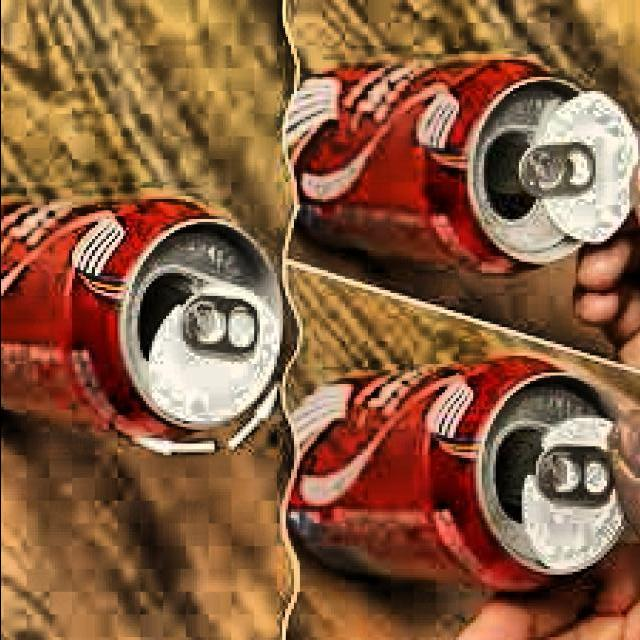Aluminum Can: (270, 352, 635, 596), (282, 54, 630, 276), (0, 192, 287, 446)
